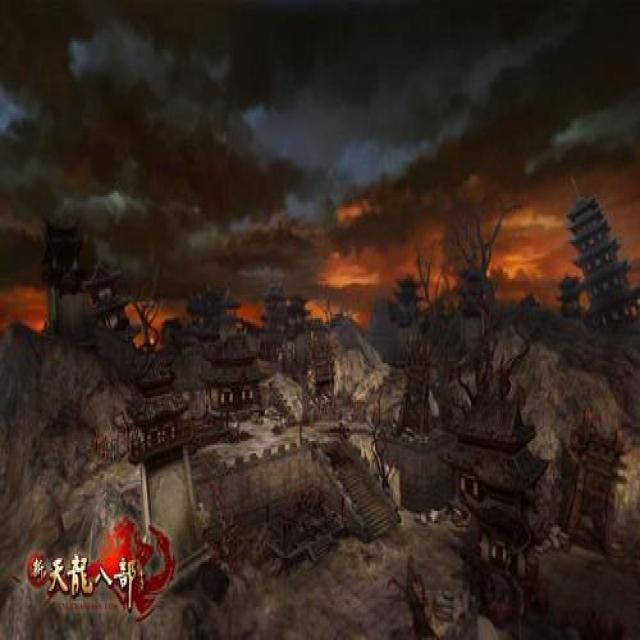other: (302, 209, 392, 330), (478, 202, 588, 297), (396, 199, 464, 303), (114, 285, 182, 352), (6, 277, 53, 338)
